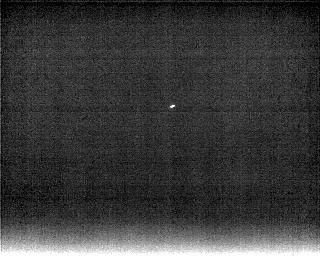BIRD: (168, 102, 177, 110)
